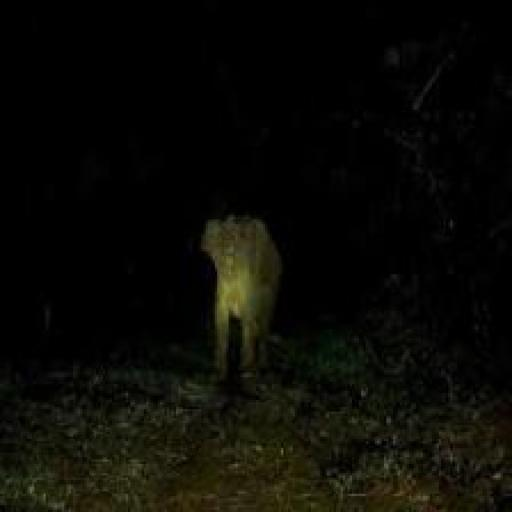Elephant: (192, 206, 283, 391)
